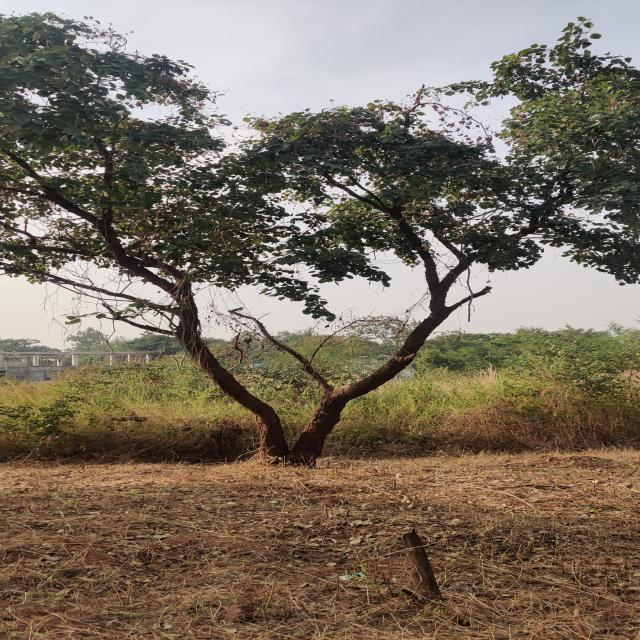Devakanchan tree: (29, 46, 615, 457)
